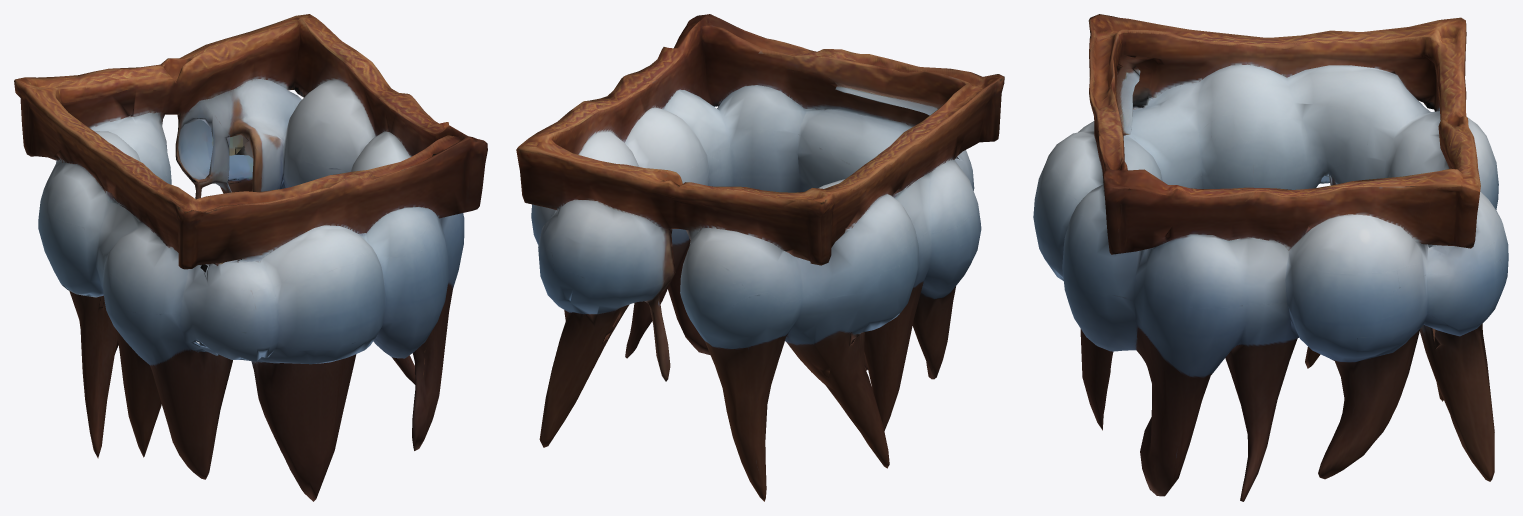
Rendered from path_cloud_01.gltf.
3 views of the same model, side by side, from view 1: azimuth 30°, elevation 25°; view 2: azimuth 150°, elevation 25°; view 3: azimuth 270°, elevation 25° (orthographic). The views are drawn at different scales.
Parts seen in each view (by area): view 1: path_cloud_01; view 2: path_cloud_01; view 3: path_cloud_01.
Part boxes in pixels (x1,y1,x2,y2): path_cloud_01: (14, 14, 487, 501); path_cloud_01: (516, 14, 1004, 501); path_cloud_01: (1033, 14, 1508, 501).
Bounding box in the file's own units: 1.67 × 1.43 × 1.77.
Materials: 1 (1 with a texture image).
